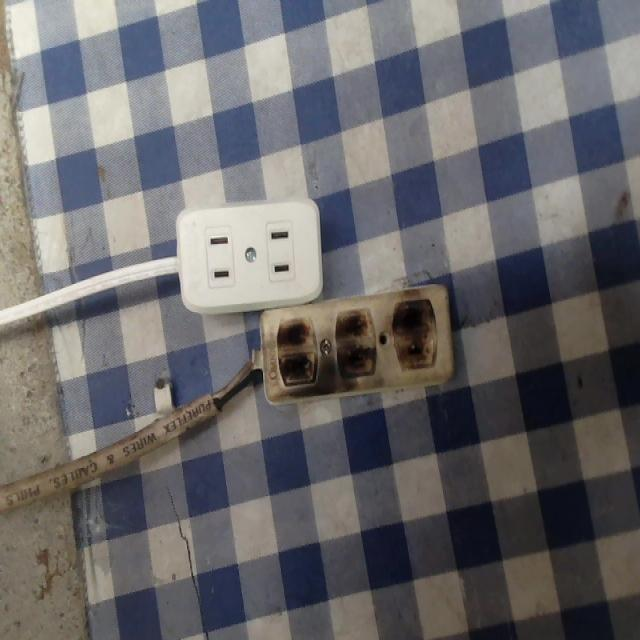-: (389, 291, 444, 377), (333, 300, 377, 389), (271, 314, 318, 386)
